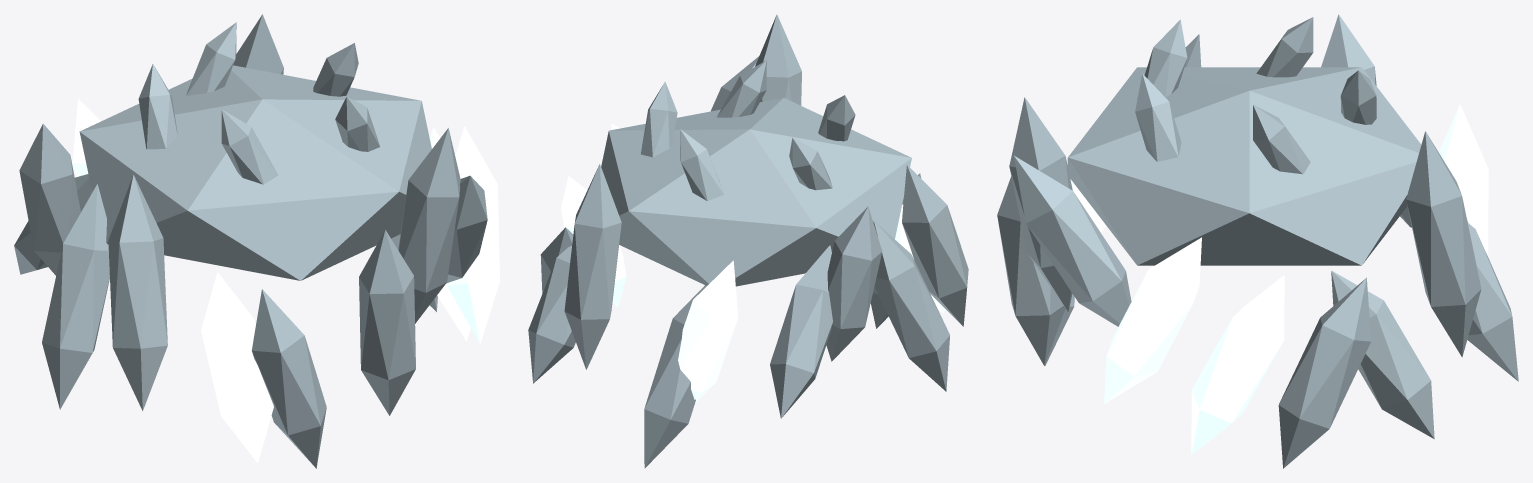
The model's file is Ice.fbx.
3 views of the same model, side by side, from view 1: azimuth 30°, elevation 25°; view 2: azimuth 150°, elevation 25°; view 3: azimuth 270°, elevation 25° (orthographic). The views are drawn at different scales.
Parts seen in each view (by area): view 1: Ice_Cap0, Ice_Shard9, Ice_Shard8, Ice_Shard12, IceGlow_Shard10, Ice_Shard13, Ice_Shard11, Ice_Shard7, IceGlow_Shard15, Ice_Shard14, Ice_Spike3, Ice_Spike2 (+7 smaller); view 2: Ice_Cap0, Ice_Shard3, Ice_Shard8, Ice_Shard6, Ice_Shard9, Ice_Shard7, IceGlow_Shard5, Ice_Shard4, Ice_Shard2, Ice_Shard13, Ice_Spike1, Ice_Spike0 (+6 smaller); view 3: Ice_Cap0, Ice_Shard3, Ice_Shard14, Ice_Shard1, IceGlow_Shard0, IceGlow_Shard15, Ice_Shard2, Ice_Shard12, Ice_Shard13, Ice_Shard4, IceGlow_Shard5, Ice_Spike4 (+5 smaller).
Boxes of the visible parts, x1,y1,x2,y2 form: Ice_Cap0: [79, 65, 431, 280]; Ice_Shard9: [108, 175, 167, 410]; Ice_Shard8: [42, 184, 109, 409]; Ice_Shard12: [359, 230, 415, 415]; IceGlow_Shard10: [201, 272, 273, 462]; Ice_Shard13: [398, 128, 460, 323]; Ice_Shard11: [251, 289, 326, 468]; Ice_Shard7: [19, 123, 80, 275]; IceGlow_Shard15: [447, 126, 499, 343]; Ice_Shard14: [446, 175, 487, 283]; Ice_Spike3: [221, 109, 277, 184]; Ice_Spike2: [138, 64, 177, 149]; Ice_Cap0: [601, 97, 911, 286]; Ice_Shard3: [564, 164, 621, 369]; Ice_Shard8: [873, 220, 949, 391]; Ice_Shard6: [770, 245, 832, 418]; Ice_Shard9: [902, 165, 968, 326]; Ice_Shard7: [826, 206, 882, 361]; IceGlow_Shard5: [678, 260, 738, 402]; Ice_Shard4: [644, 285, 706, 468]; Ice_Shard2: [528, 245, 575, 383]; Ice_Shard13: [755, 14, 801, 105]; Ice_Spike1: [680, 129, 723, 200]; Ice_Spike0: [641, 81, 677, 157]; Ice_Cap0: [1067, 67, 1421, 265]; Ice_Shard3: [1406, 131, 1481, 357]; Ice_Shard14: [1014, 155, 1131, 326]; Ice_Shard1: [1278, 277, 1371, 468]; IceGlow_Shard0: [1191, 275, 1284, 454]; IceGlow_Shard15: [1104, 237, 1201, 403]; Ice_Shard2: [1331, 270, 1434, 439]; Ice_Shard12: [997, 176, 1065, 365]; Ice_Shard13: [1009, 97, 1072, 311]; Ice_Shard4: [1467, 219, 1518, 381]; IceGlow_Shard5: [1439, 104, 1488, 255]; Ice_Spike4: [1135, 73, 1181, 161].
Size of the model in its own units: 2.33 by 2.39 by 1.67.
